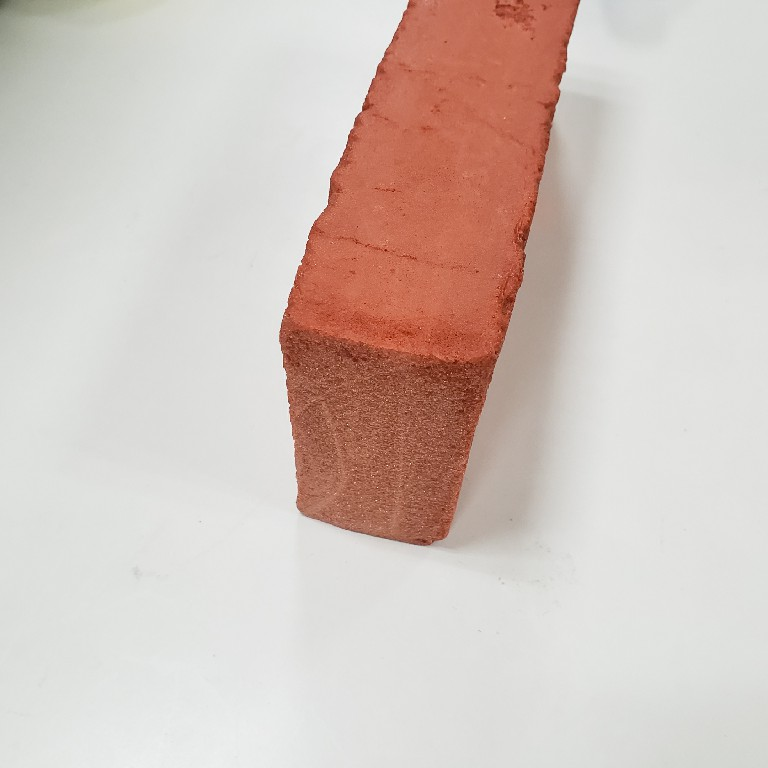brick: (273, 1, 585, 552)
